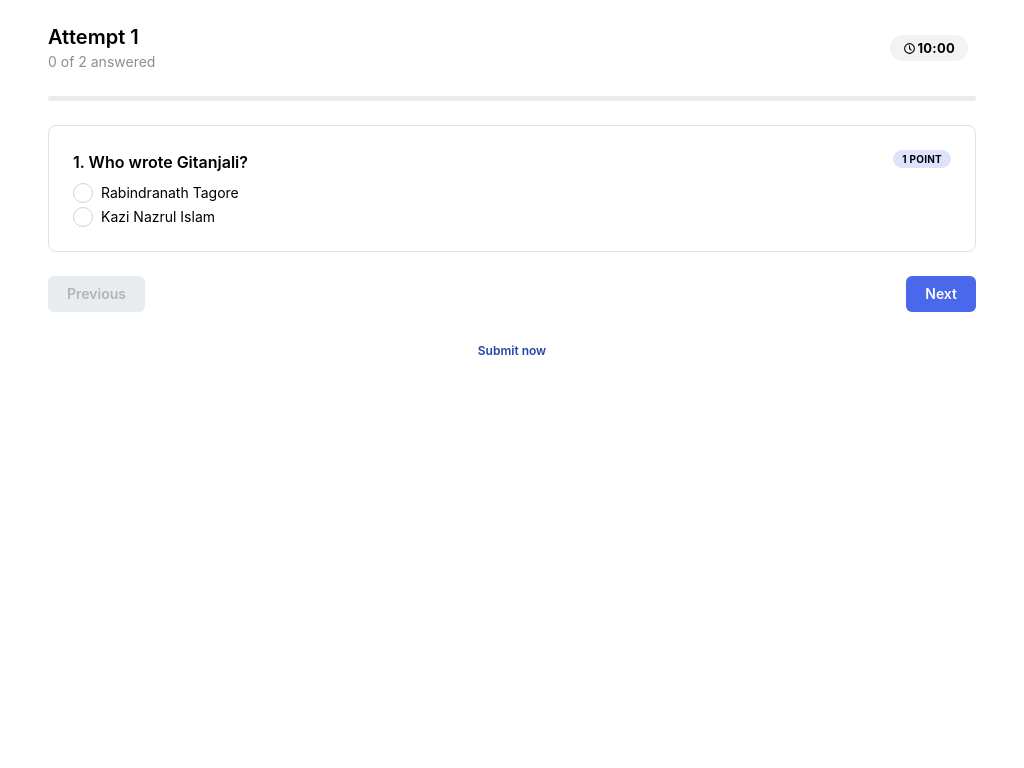
QuizRunnerRoute › asks before submitting, and says how much is unanswered
The image size is (1024, 768).
Click the button "Submit now". click: (512, 351)
box: [463, 336, 561, 366]
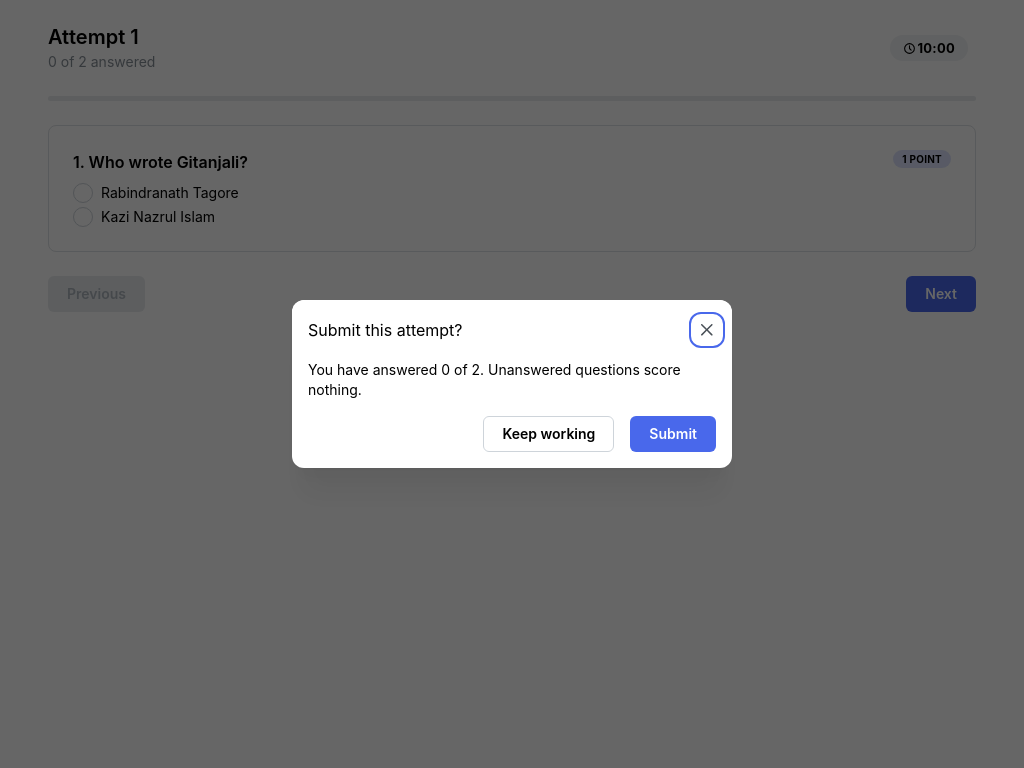
Check: the text "You have answered 0 of 2" is shown, box [308, 361, 681, 398]
